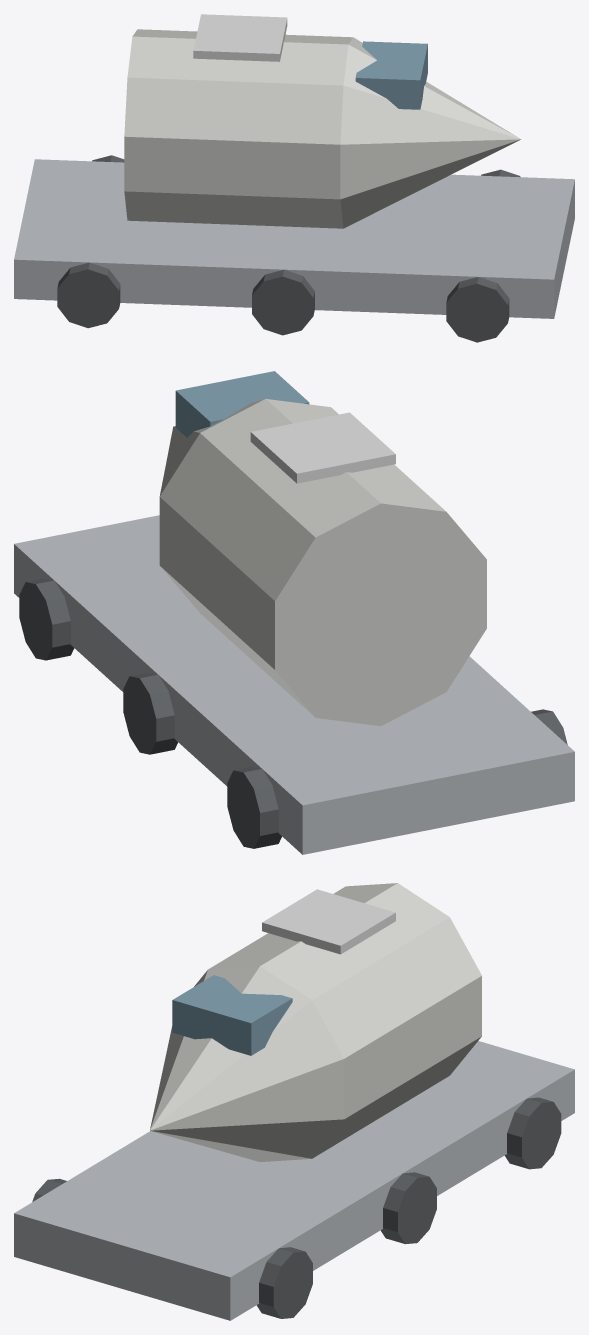
File: ss-cockpit.glb
3 renders of one model, top to bottom at view 1: azimuth 30°, elevation 25°; view 2: azimuth 150°, elevation 25°; view 3: azimuth 270°, elevation 25°, orthographic. The views are drawn at different scales.
Visible parts, largest first — view 1: LOD0; view 2: LOD0; view 3: LOD0.
Boxes of the visible parts, bbox=[...] form: LOD0: bbox=[14, 14, 574, 342]; LOD0: bbox=[14, 371, 574, 854]; LOD0: bbox=[14, 883, 574, 1320].
Size of what is drawn, in the model's own units: 1.07 by 0.493 by 0.934.
